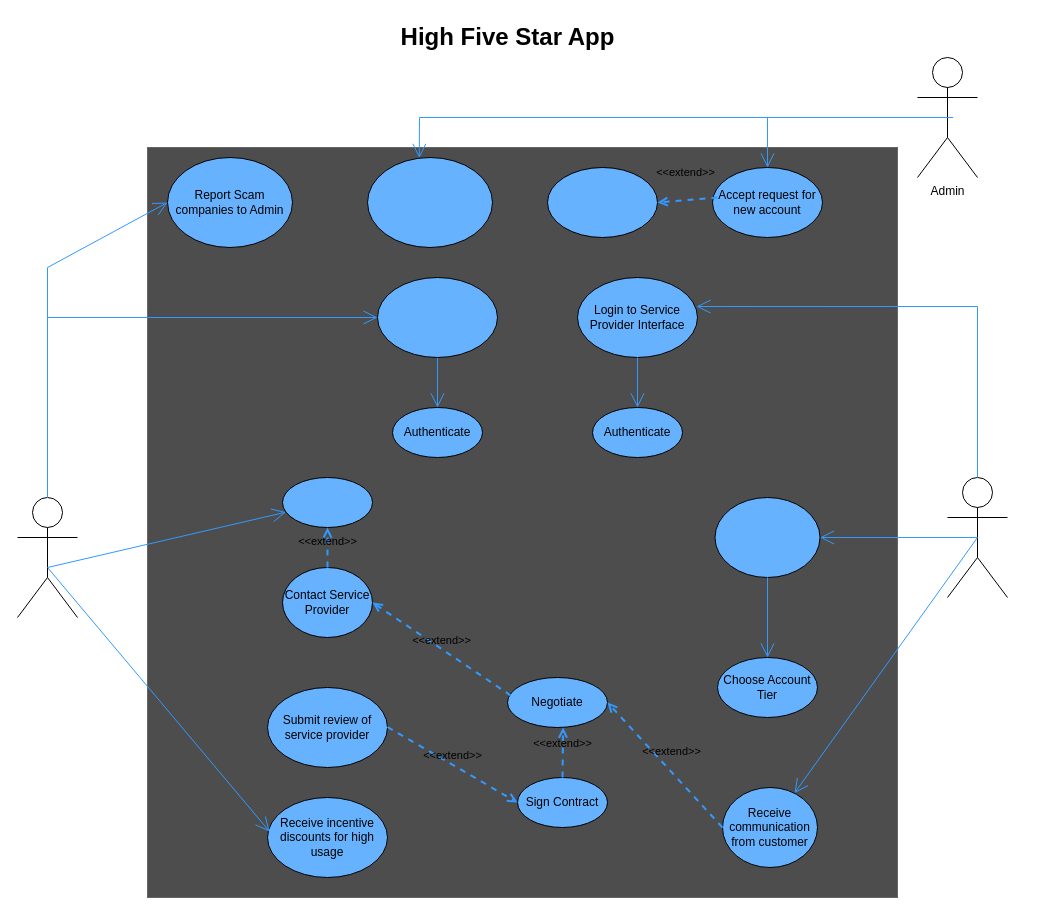
Image size: 1039x915. Some labels were removed from this diagram. The shapes that lost their labels are listed below. From the top down, each one's centre as x and y in pixels, then its label:
At point (429, 202): "Monitor Accounts for Scam companies and Remove".
At point (602, 202): "Create account for S.P if required".
At point (437, 317): "Login to Customer interface".
At point (327, 502): "Search for Services".
At point (47, 557): "Customer".
At point (767, 537): "Create Profile/account request".
At point (977, 537): "Service Provider".
